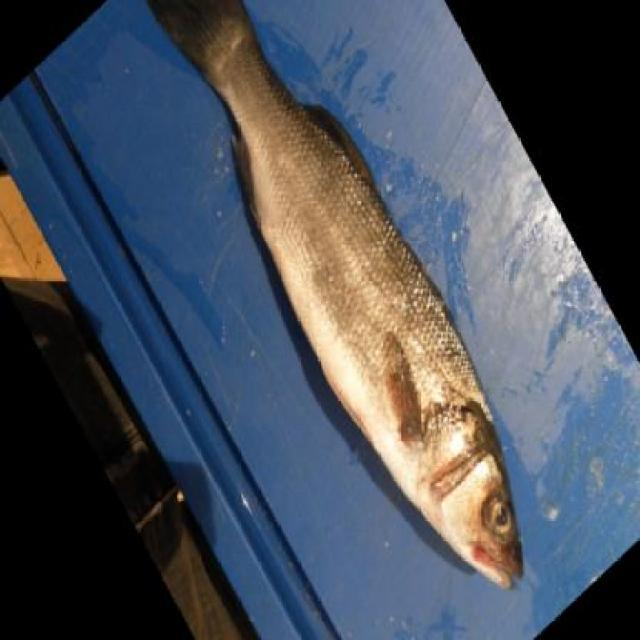Healthy Fish: (144, 0, 555, 594)
